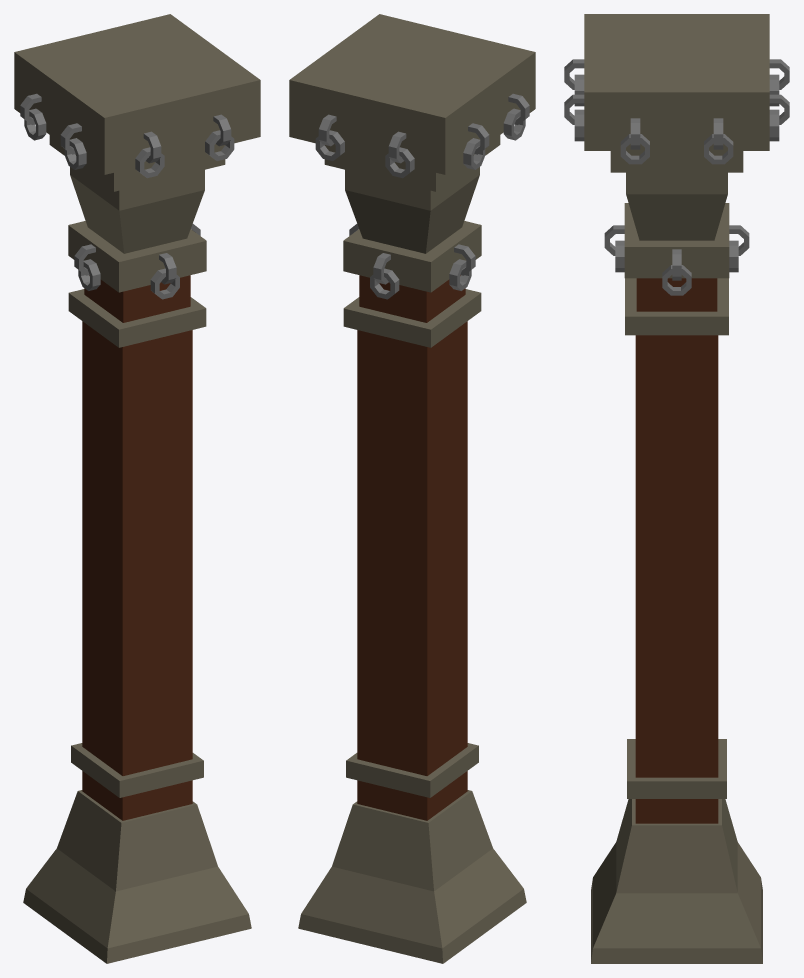
File: Pillar2.fbx
3 views of the same model, side by side, from view 1: azimuth 30°, elevation 25°; view 2: azimuth 150°, elevation 25°; view 3: azimuth 270°, elevation 25° (orthographic). The views are drawn at different scales.
Parts seen in each view (by area): view 1: Pillar2; view 2: Pillar2; view 3: Pillar2.
Part boxes in pixels (x1,y1,x2,y2): Pillar2: [14, 14, 260, 963]; Pillar2: [289, 14, 535, 963]; Pillar2: [564, 14, 789, 963].
Bounding box in the file's own units: 117 × 500 × 117.
